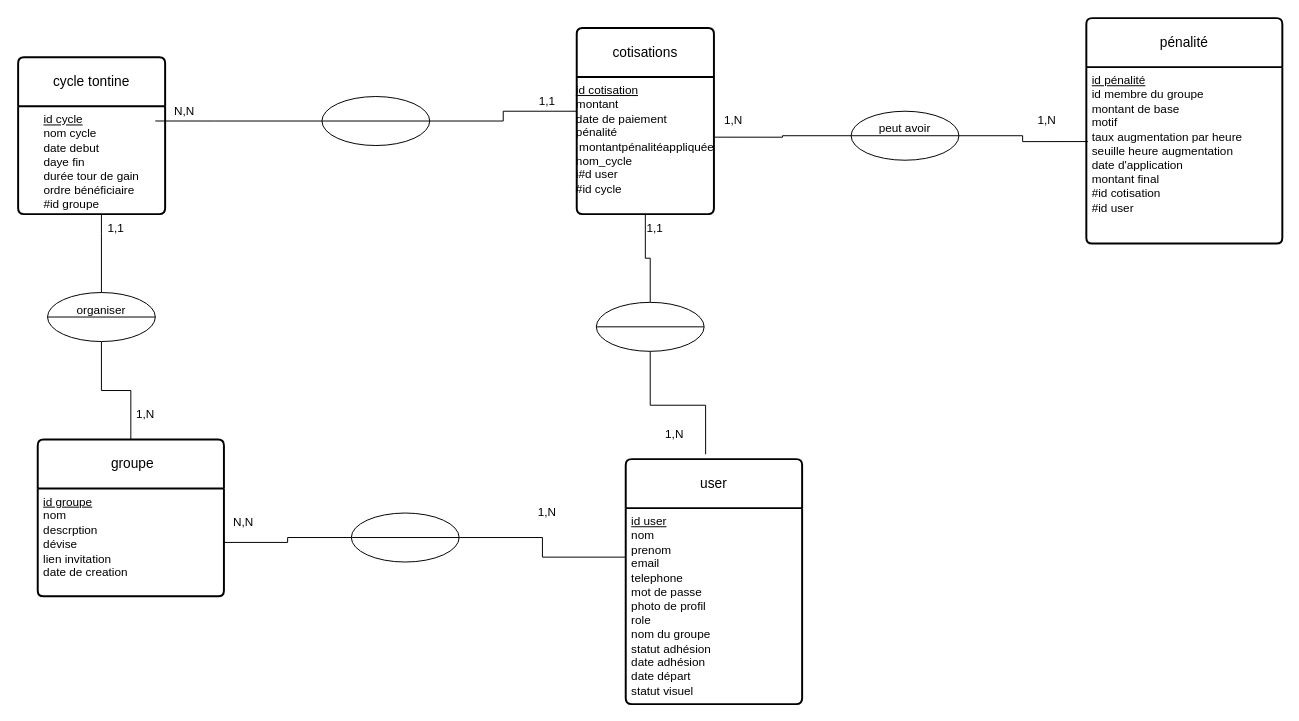
Some shapes in this 1299 by 721 pixel diagram are drawn without their labels. The shapes that lost their labels are listed below. From the top down, each one's centre as x and y in pixels, then its label:
point 375,121: comprend
point 649,326: effectuer
point 404,537: participer
